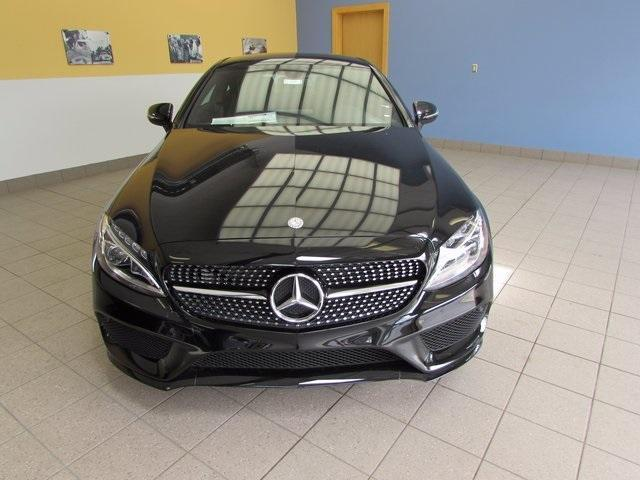C300Coupe: (89, 47, 497, 393)
